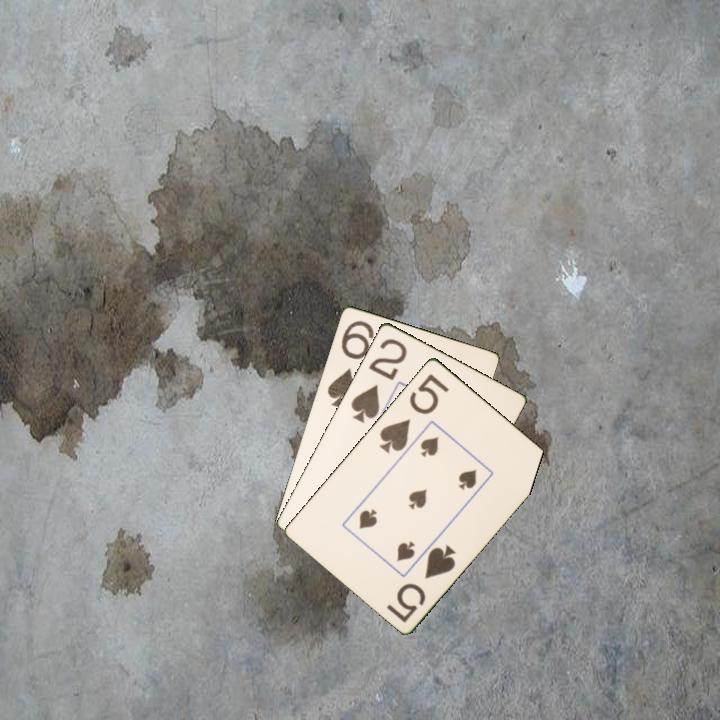2s: (347, 335, 410, 426)
5s: (375, 370, 452, 456), (383, 541, 459, 625)
6s: (323, 316, 377, 411)
